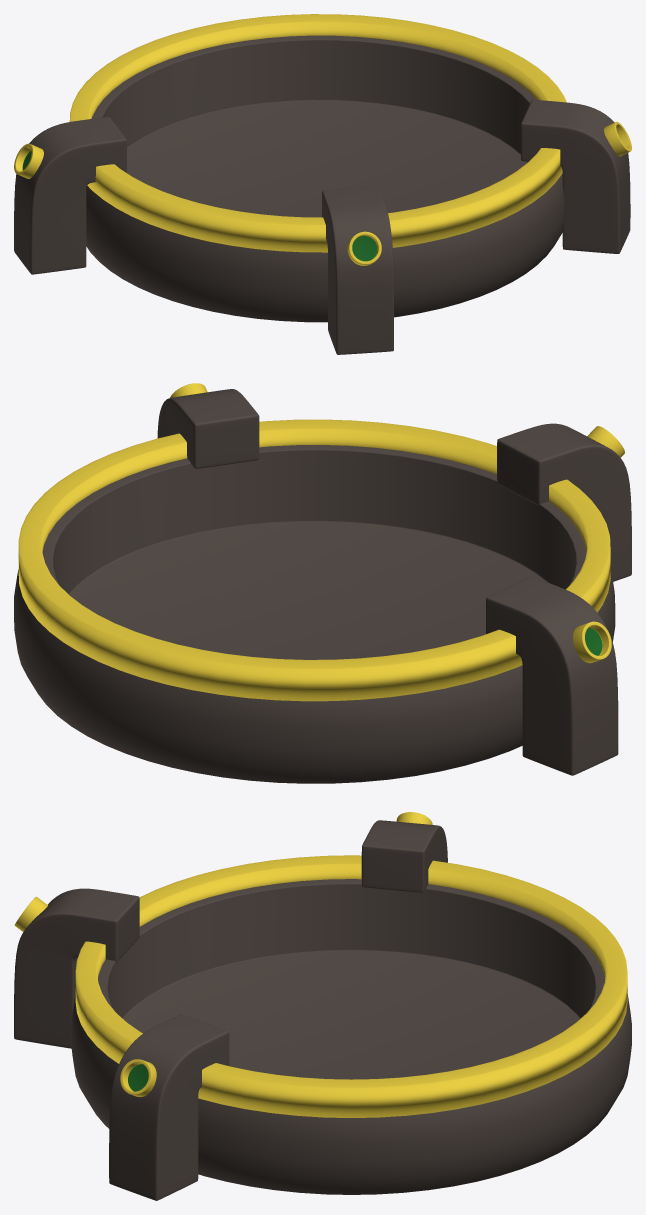
File: TreeContainer_Mdl_GZ.fbx
3 views of the same model, one above another, from view 1: azimuth 30°, elevation 25°; view 2: azimuth 150°, elevation 25°; view 3: azimuth 270°, elevation 25° (orthographic). The views are drawn at different scales.
Visible parts, largest first — view 1: Cylinder, Cylinder.001, Cube.001, Cube.002, Cube, Cylinder.002, Cylinder.004, Cylinder.003; view 2: Cylinder, Cylinder.001, Cube.001, Cube, Cube.002, Cylinder.004; view 3: Cylinder, Cylinder.001, Cube.002, Cube, Cube.001, Cylinder.003.
Part boxes in pixels (box(x1,y1,x2,y2)): Cylinder: box(86, 35, 564, 322); Cylinder.001: box(69, 14, 566, 252); Cube.001: box(14, 117, 126, 274); Cube.002: box(521, 100, 630, 253); Cube: box(322, 187, 393, 354); Cylinder.002: box(347, 231, 381, 265); Cylinder.004: box(14, 143, 43, 178); Cylinder.003: box(604, 121, 631, 156); Cylinder: box(14, 445, 615, 783); Cylinder.001: box(18, 419, 610, 701); Cube.001: box(486, 576, 618, 775); Cube: box(497, 423, 631, 581); Cube.002: box(157, 389, 259, 468); Cylinder.004: box(573, 621, 611, 663); Cylinder: box(71, 879, 631, 1194); Cylinder.001: box(75, 855, 627, 1117); Cube.002: box(109, 1014, 229, 1200); Cube: box(14, 888, 139, 1048); Cube.001: box(361, 820, 447, 892); Cylinder.003: box(120, 1059, 156, 1097).
Size of the model in its own units: 593 by 141 by 580.
